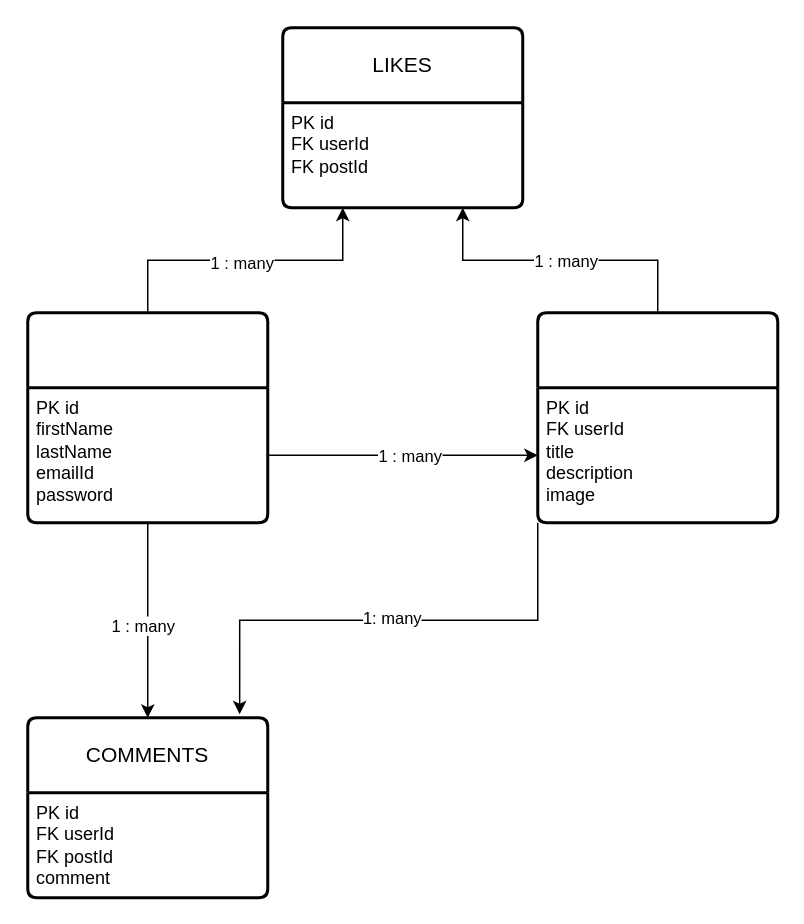
Some shapes in this 804 by 924 pixel diagram are drawn without their labels. The shapes that lost their labels are listed below. From the top down, each one's box as (x1, y1, x2, y2) in pixels, then its label:
(26, 310, 268, 524): USERS
(536, 310, 778, 524): POSTS
